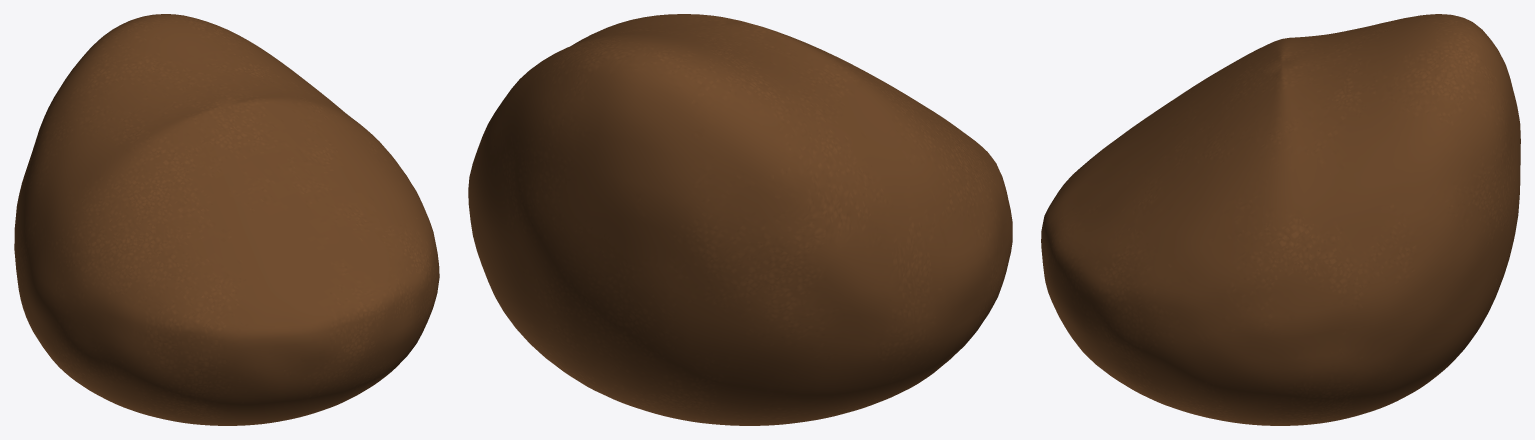
Rendered from chair-leather-tan.glb.
3 renders of one model, left to right at view 1: azimuth 30°, elevation 25°; view 2: azimuth 150°, elevation 25°; view 3: azimuth 270°, elevation 25°, orthographic. The views are drawn at different scales.
Visible parts, largest first — view 1: fabric_primary; view 2: fabric_primary; view 3: fabric_primary.
Boxes of the visible parts, <box> form: fabric_primary: <box>14,14,439,425</box>; fabric_primary: <box>468,14,1012,425</box>; fabric_primary: <box>1041,14,1520,425</box>.
Size of the model in its own units: 0.9615 by 0.7964 by 0.9572.
1 material, 1 textured.
